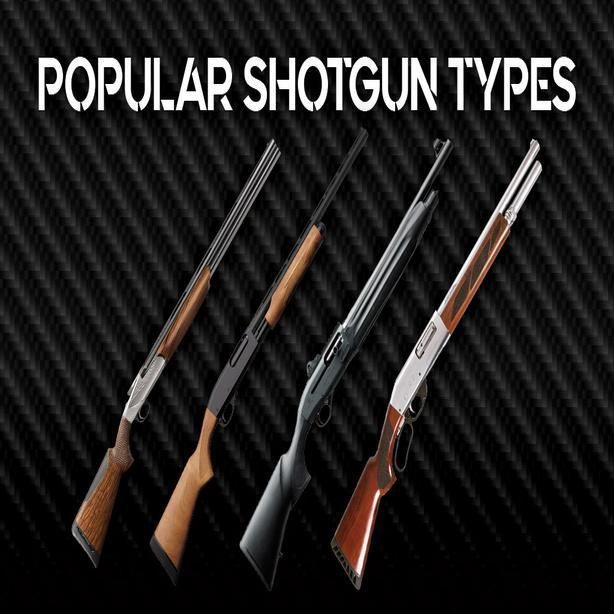Firearm: (153, 116, 416, 597), (310, 128, 568, 594), (55, 126, 297, 573)
